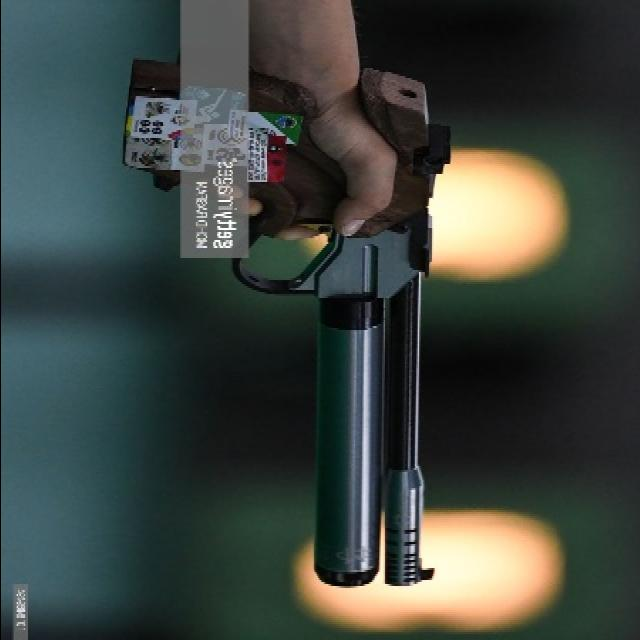handgun: (128, 57, 452, 597)
